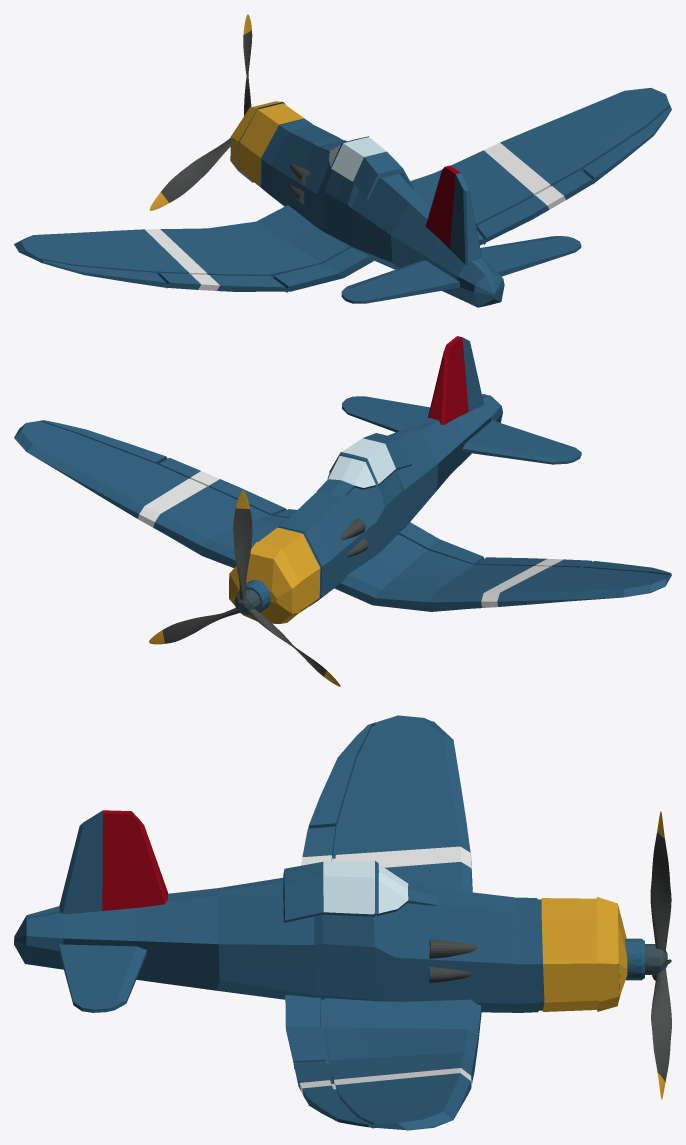
Rendered from corsair.glb.
3 views of the same model, one above another, from view 1: azimuth 30°, elevation 25°; view 2: azimuth 150°, elevation 25°; view 3: azimuth 270°, elevation 25° (orthographic). The views are drawn at different scales.
Visible parts, largest first — view 1: Cube.007, Cube.004; view 2: Cube.007, Cube.004; view 3: Cube.007, Cube.004.
Part boxes in pixels (<box>): Cube.007: <box>14,88,671,307</box>; Cube.004: <box>149,14,252,210</box>; Cube.007: <box>14,336,671,623</box>; Cube.004: <box>149,490,340,686</box>; Cube.007: <box>14,715,667,1130</box>; Cube.004: <box>650,811,671,1099</box>.
Size of the model in its own units: 15.18 by 3.93 by 10.25.
